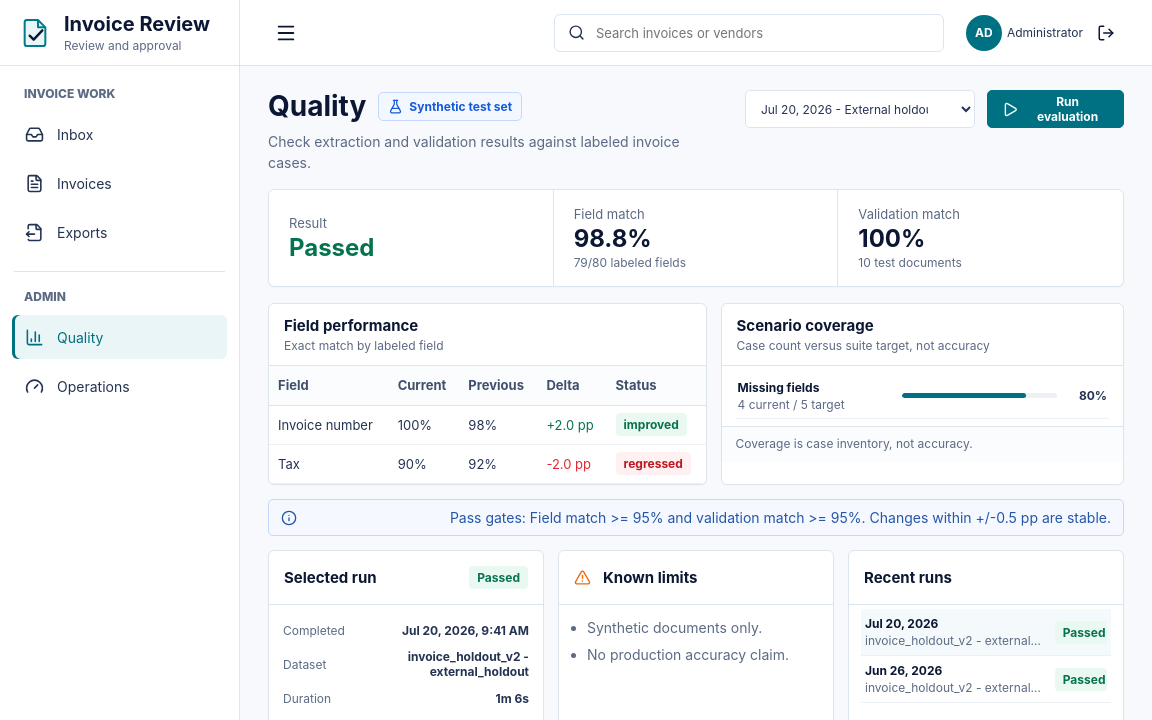
Test case: evaluation workspace › keeps synthetic claims bounded and makes comparisons inspectable
Expected: the heading "Quality" is shown, [268,90,366,124]
Expected: the element titled "do not represent production accuracy" is shown, [378,92,522,121]
Click the text "Tax" at (487, 464), box [269,445,706,484]
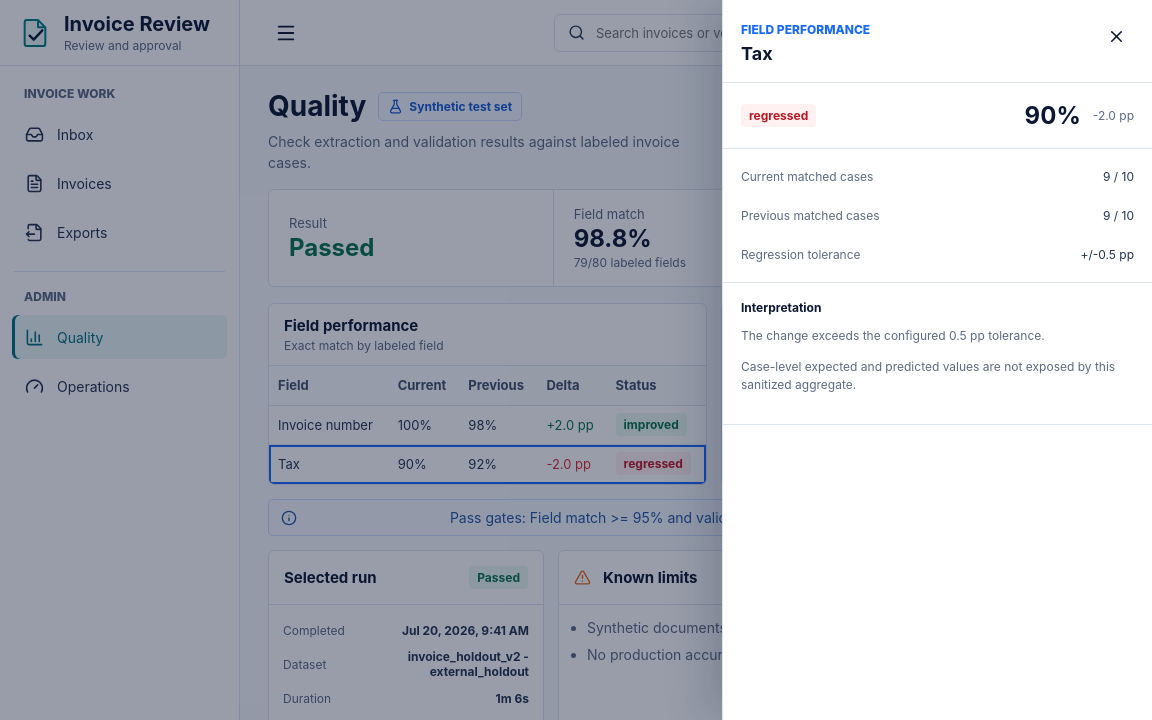
Expected: the dialog "Tax" is shown, [722,0,1151,719]
Click the button named "Close details" at (1116, 36), box [1098,18,1134,54]
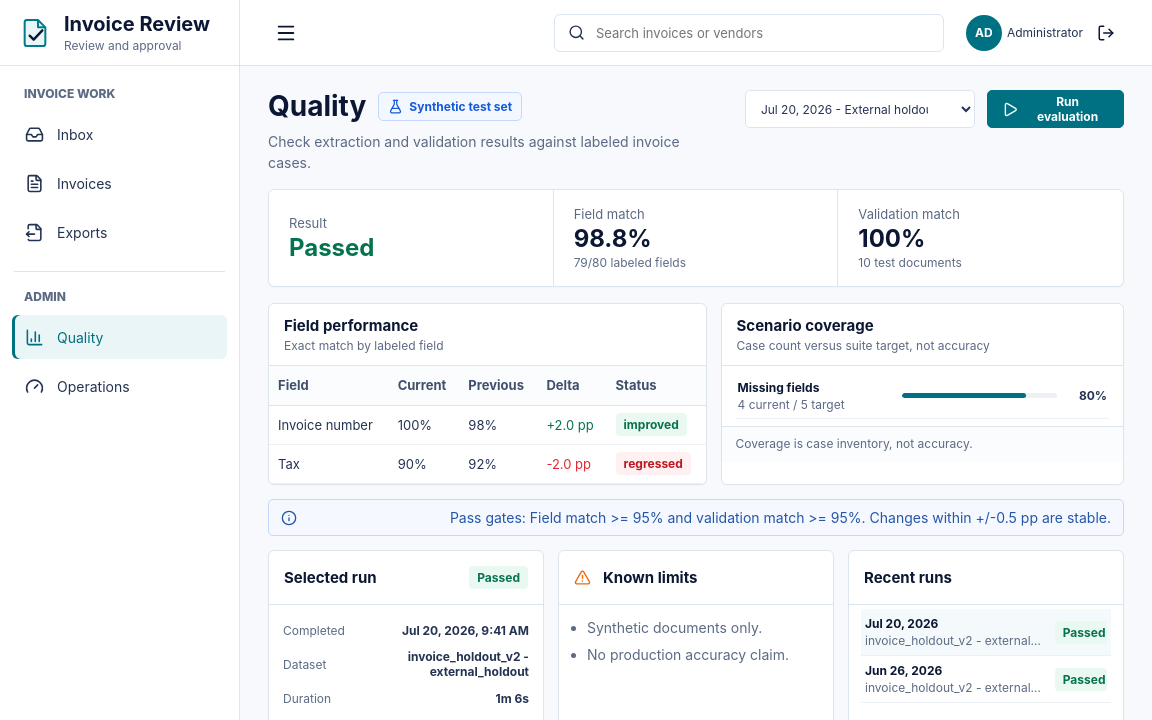
Click the button "Missing fields 4 current / 5 target 80%" at (922, 396), box [736,373,1109,419]
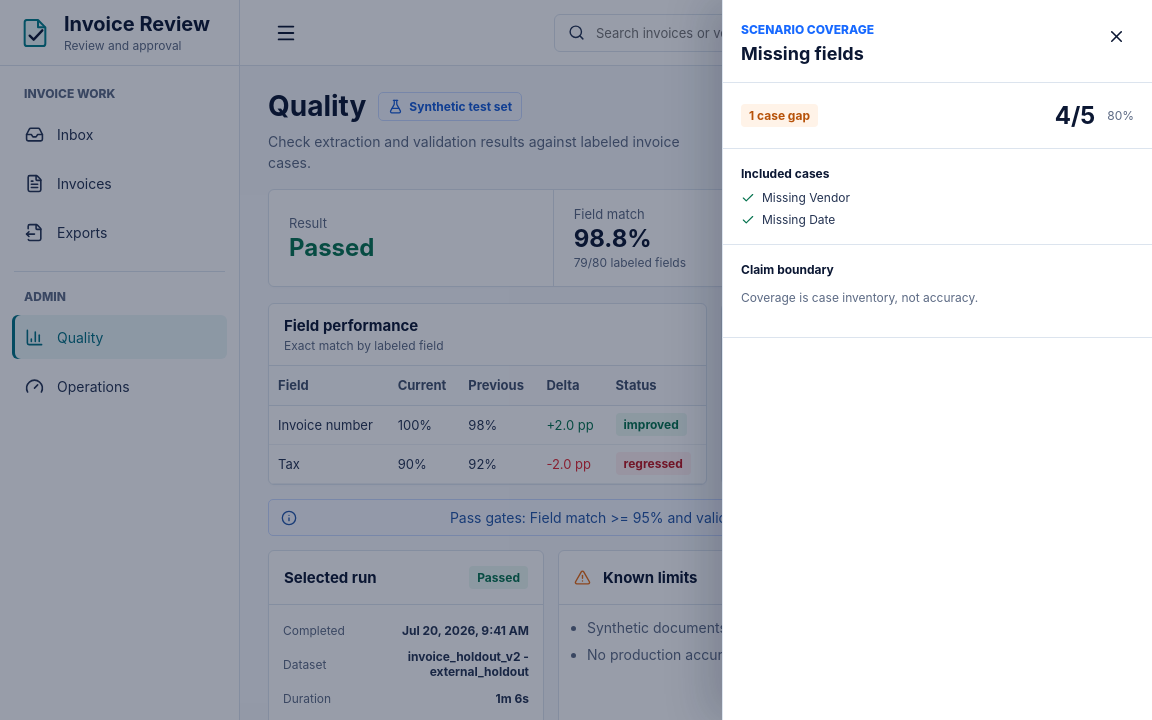
Expected: the dialog "Missing fields" shows "Coverage is case inventory, not accuracy.", [741,290,978,305]
Click the button named "Close details" at (1116, 36), box [1098,18,1134,54]
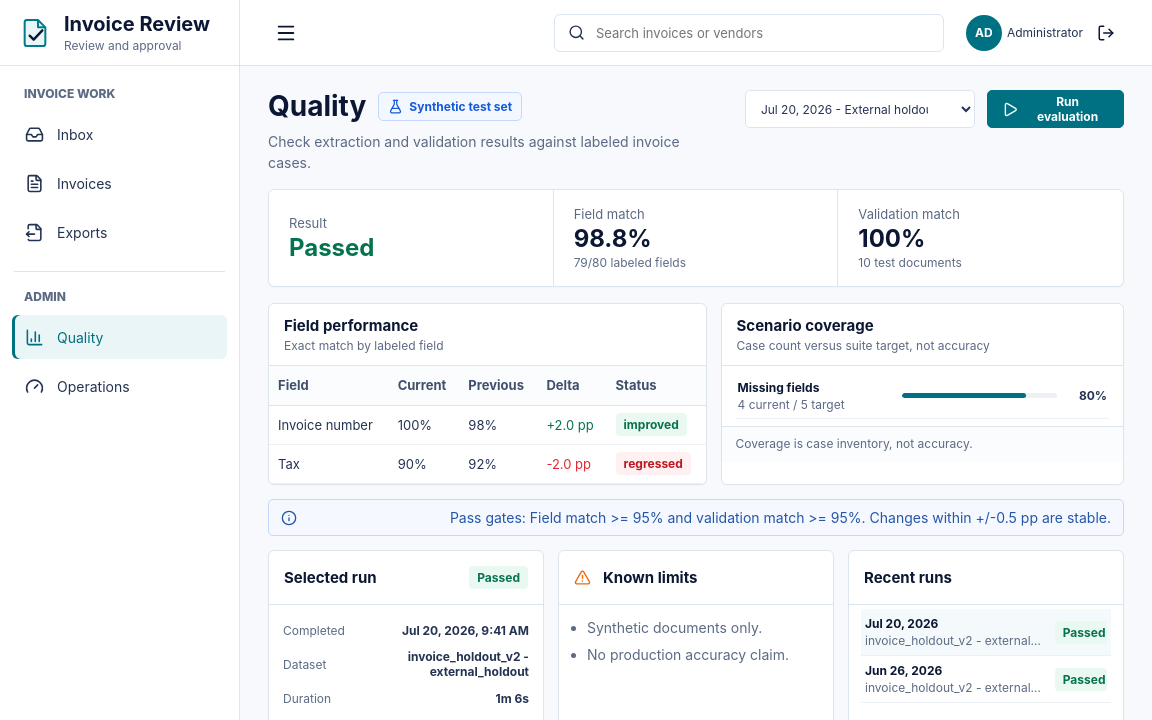
Click the button "Run evaluation" at (1055, 109), box [987,90,1124,128]
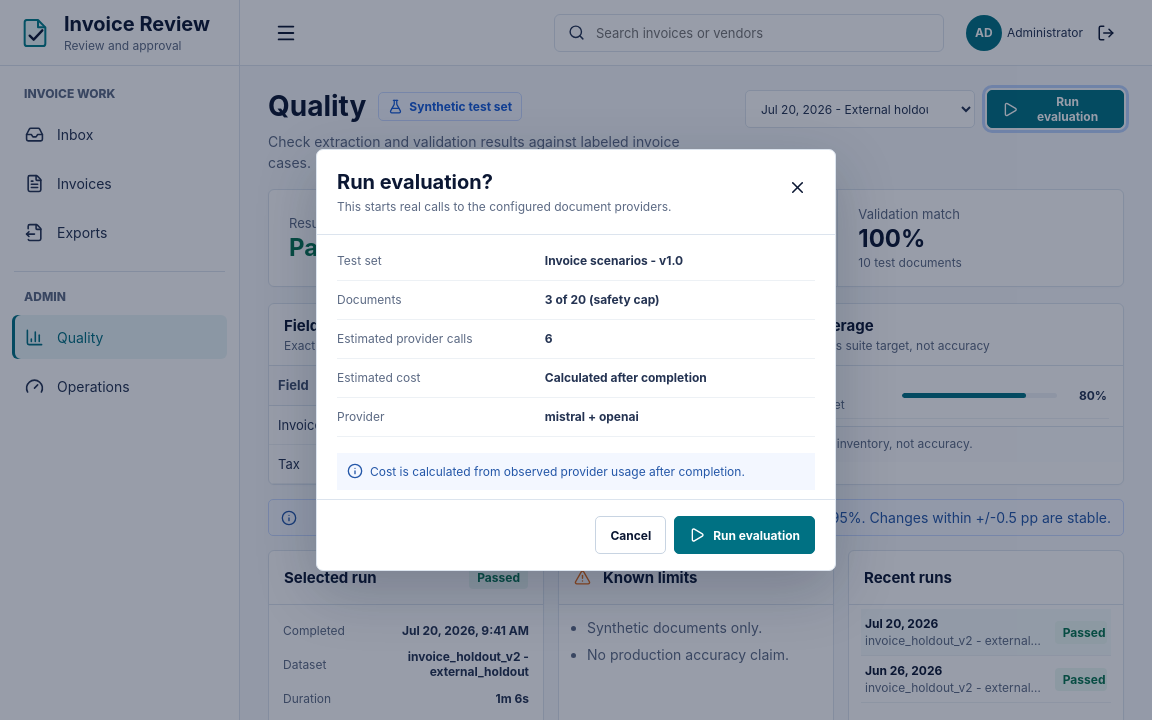
Expected: the text "3 of 20 (safety cap)" is shown, [545,292,660,307]
Expected: the text "Calculated after completion" is shown, [545,370,707,385]
Expected: the text "6" is shown, [545,331,553,346]
